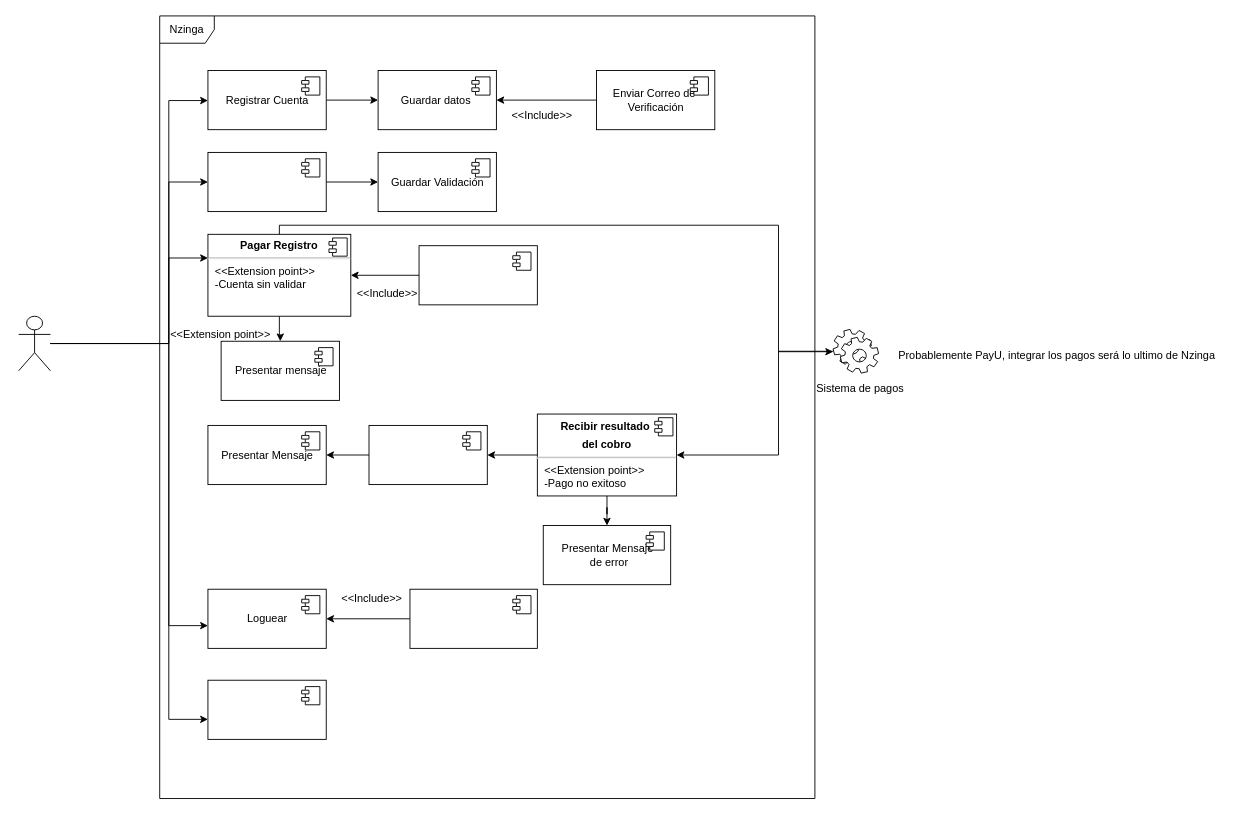
Image size: 1240x814. Some labels were removed from this diagram. The box of each missing label's shape, as (x1, y1, x2, y2) in pixels:
Activar cuenta: (368, 425, 487, 485)
CRUD linea: (207, 679, 326, 739)
Entidad: (18, 315, 51, 371)
Valdiar Cuenta: (207, 152, 326, 212)
Verificar Activación de cuenta: (409, 588, 537, 648)
Verificar validación: (418, 245, 537, 305)
